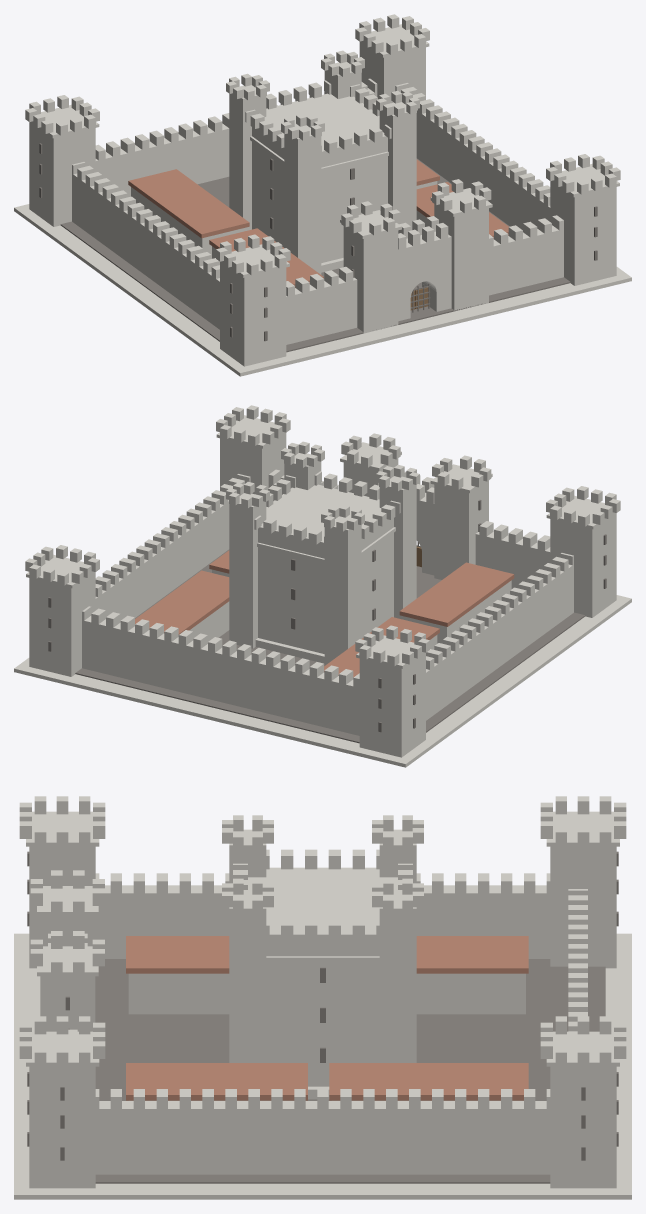
Rendered from _workspace_roman_fortress.glb.
3 views of the same model, one above another, from view 1: azimuth 30°, elevation 25°; view 2: azimuth 150°, elevation 25°; view 3: azimuth 270°, elevation 25° (orthographic). The views are drawn at different scales.
Visible parts, largest first — view 1: Fortress_Stone, Roofs, Fortress_Details; view 2: Fortress_Stone, Roofs, Fortress_Details; view 3: Fortress_Stone, Fortress_Details, Roofs.
Part boxes in pixels (left/top/right/bottom): Fortress_Stone: left=14, top=14, right=631, bottom=376; Roofs: left=128, top=159, right=508, bottom=287; Fortress_Details: left=39, top=143, right=597, bottom=352; Fortress_Stone: left=14, top=405, right=631, bottom=767; Roofs: left=135, top=550, right=514, bottom=677; Fortress_Details: left=48, top=500, right=606, bottom=743; Fortress_Stone: left=14, top=796, right=631, bottom=1199; Fortress_Details: left=27, top=851, right=618, bottom=1183; Roofs: left=126, top=936, right=528, bottom=1100.
Bounding box in the file's own units: 70 × 26.4 × 70.
